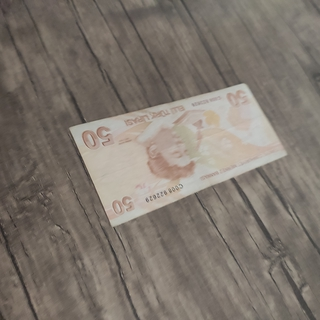50TLBack: (67, 82, 289, 225)
